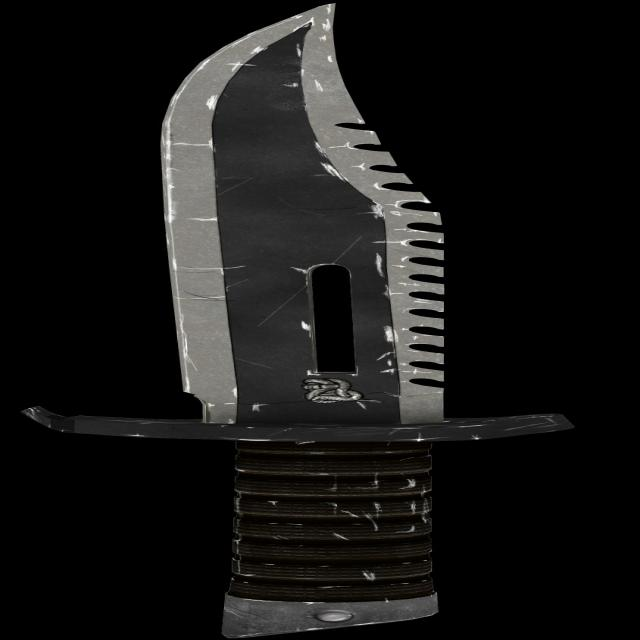knife: (22, 3, 575, 636)
